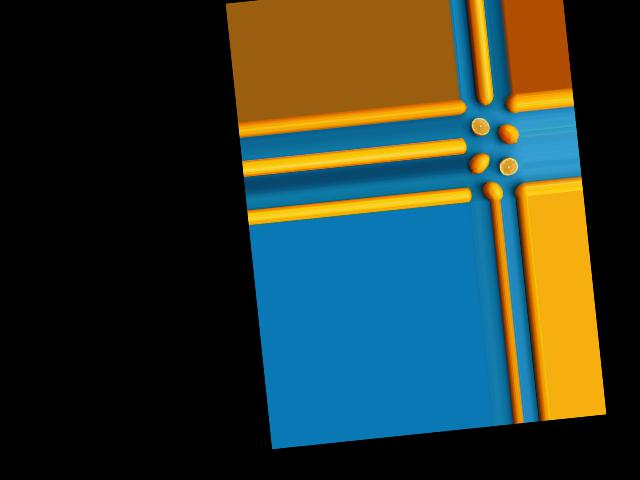lemon: (511, 180, 526, 199)
